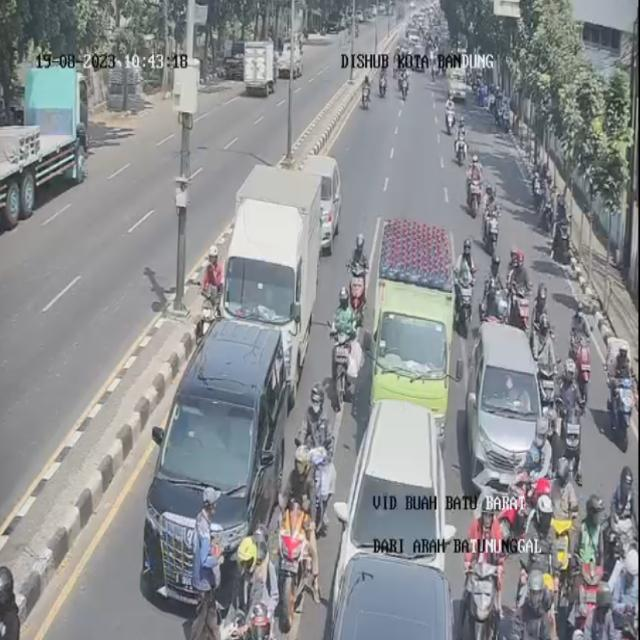cars: (143, 318, 289, 605), (329, 393, 456, 640), (457, 302, 540, 466), (301, 154, 342, 253)
motorcycle: (279, 446, 320, 629), (293, 379, 336, 522), (520, 495, 559, 640), (572, 493, 609, 640), (465, 501, 504, 640), (236, 524, 282, 640), (326, 287, 358, 416), (527, 318, 560, 442), (602, 337, 633, 450), (558, 360, 586, 482), (550, 455, 576, 577), (564, 300, 592, 408), (610, 469, 638, 570), (506, 250, 533, 346), (454, 237, 476, 334), (349, 231, 368, 331), (485, 252, 504, 328), (482, 185, 502, 255), (536, 286, 550, 364), (467, 156, 482, 222), (441, 89, 458, 138), (398, 59, 413, 106), (456, 114, 468, 168), (375, 57, 390, 98), (361, 73, 372, 112)
truck: (211, 163, 323, 409), (365, 218, 456, 434)
